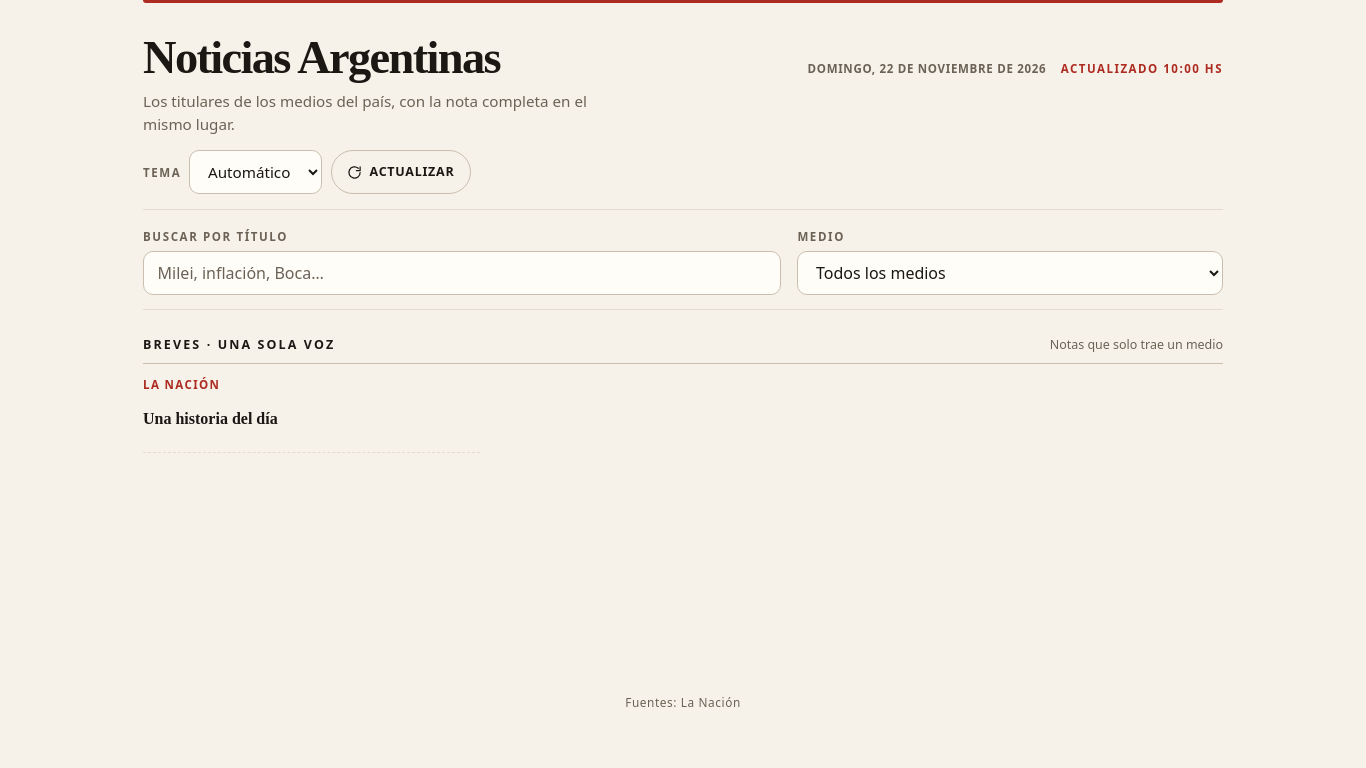
Test: App speech integration › offers playback only after the article body is ready
Click the button "Una historia del día": (210, 419) [143,397,480,441]
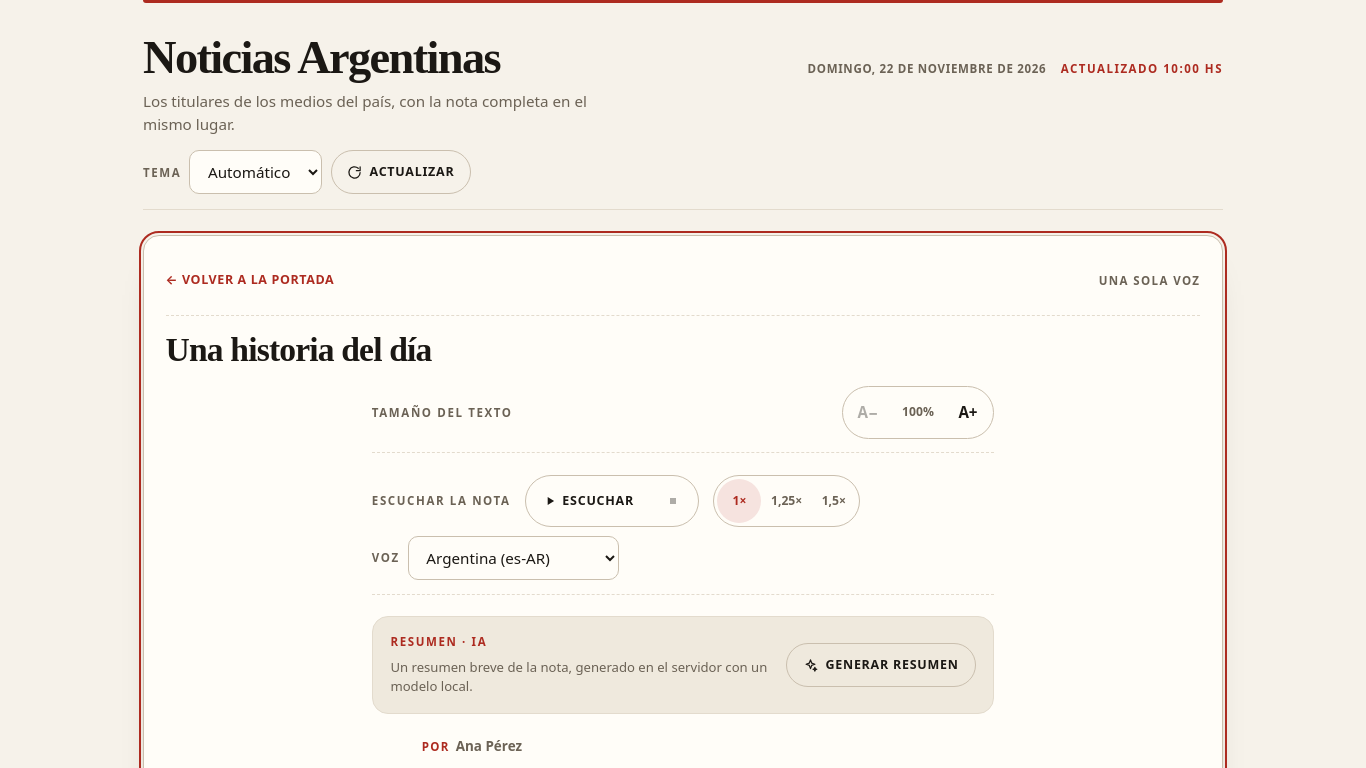
Expected: the button "Escuchar" is shown, [529,479,648,523]
